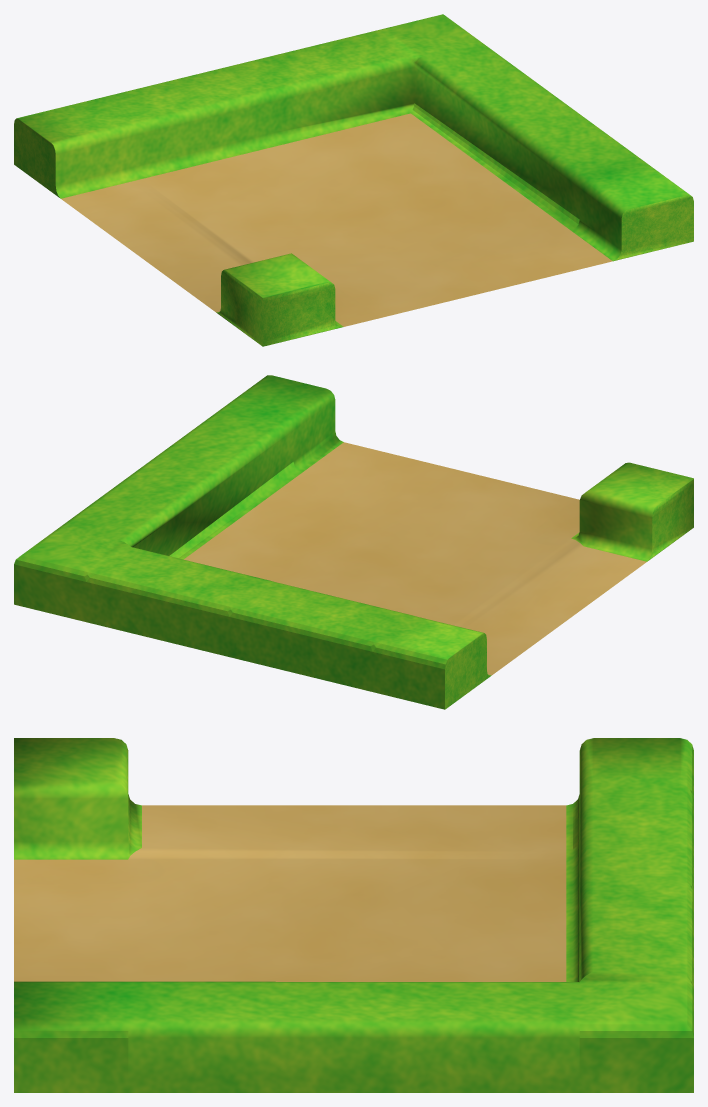
File: Map06.obj
The picture shows the model from 3 angles, top to bottom: view 1: azimuth 30°, elevation 25°; view 2: azimuth 150°, elevation 25°; view 3: azimuth 270°, elevation 25°; orthographic projection. The views are drawn at different scales.
Visible parts, largest first — view 1: Map.01_Plane.002; view 2: Map.01_Plane.002; view 3: Map.01_Plane.002.
Boxes of the visible parts, x1,y1,x2,y2 form: Map.01_Plane.002: (14, 14, 693, 346); Map.01_Plane.002: (14, 375, 693, 709); Map.01_Plane.002: (14, 738, 693, 1092).
Bounding box in the file's own units: 1 × 0.1093 × 1.
